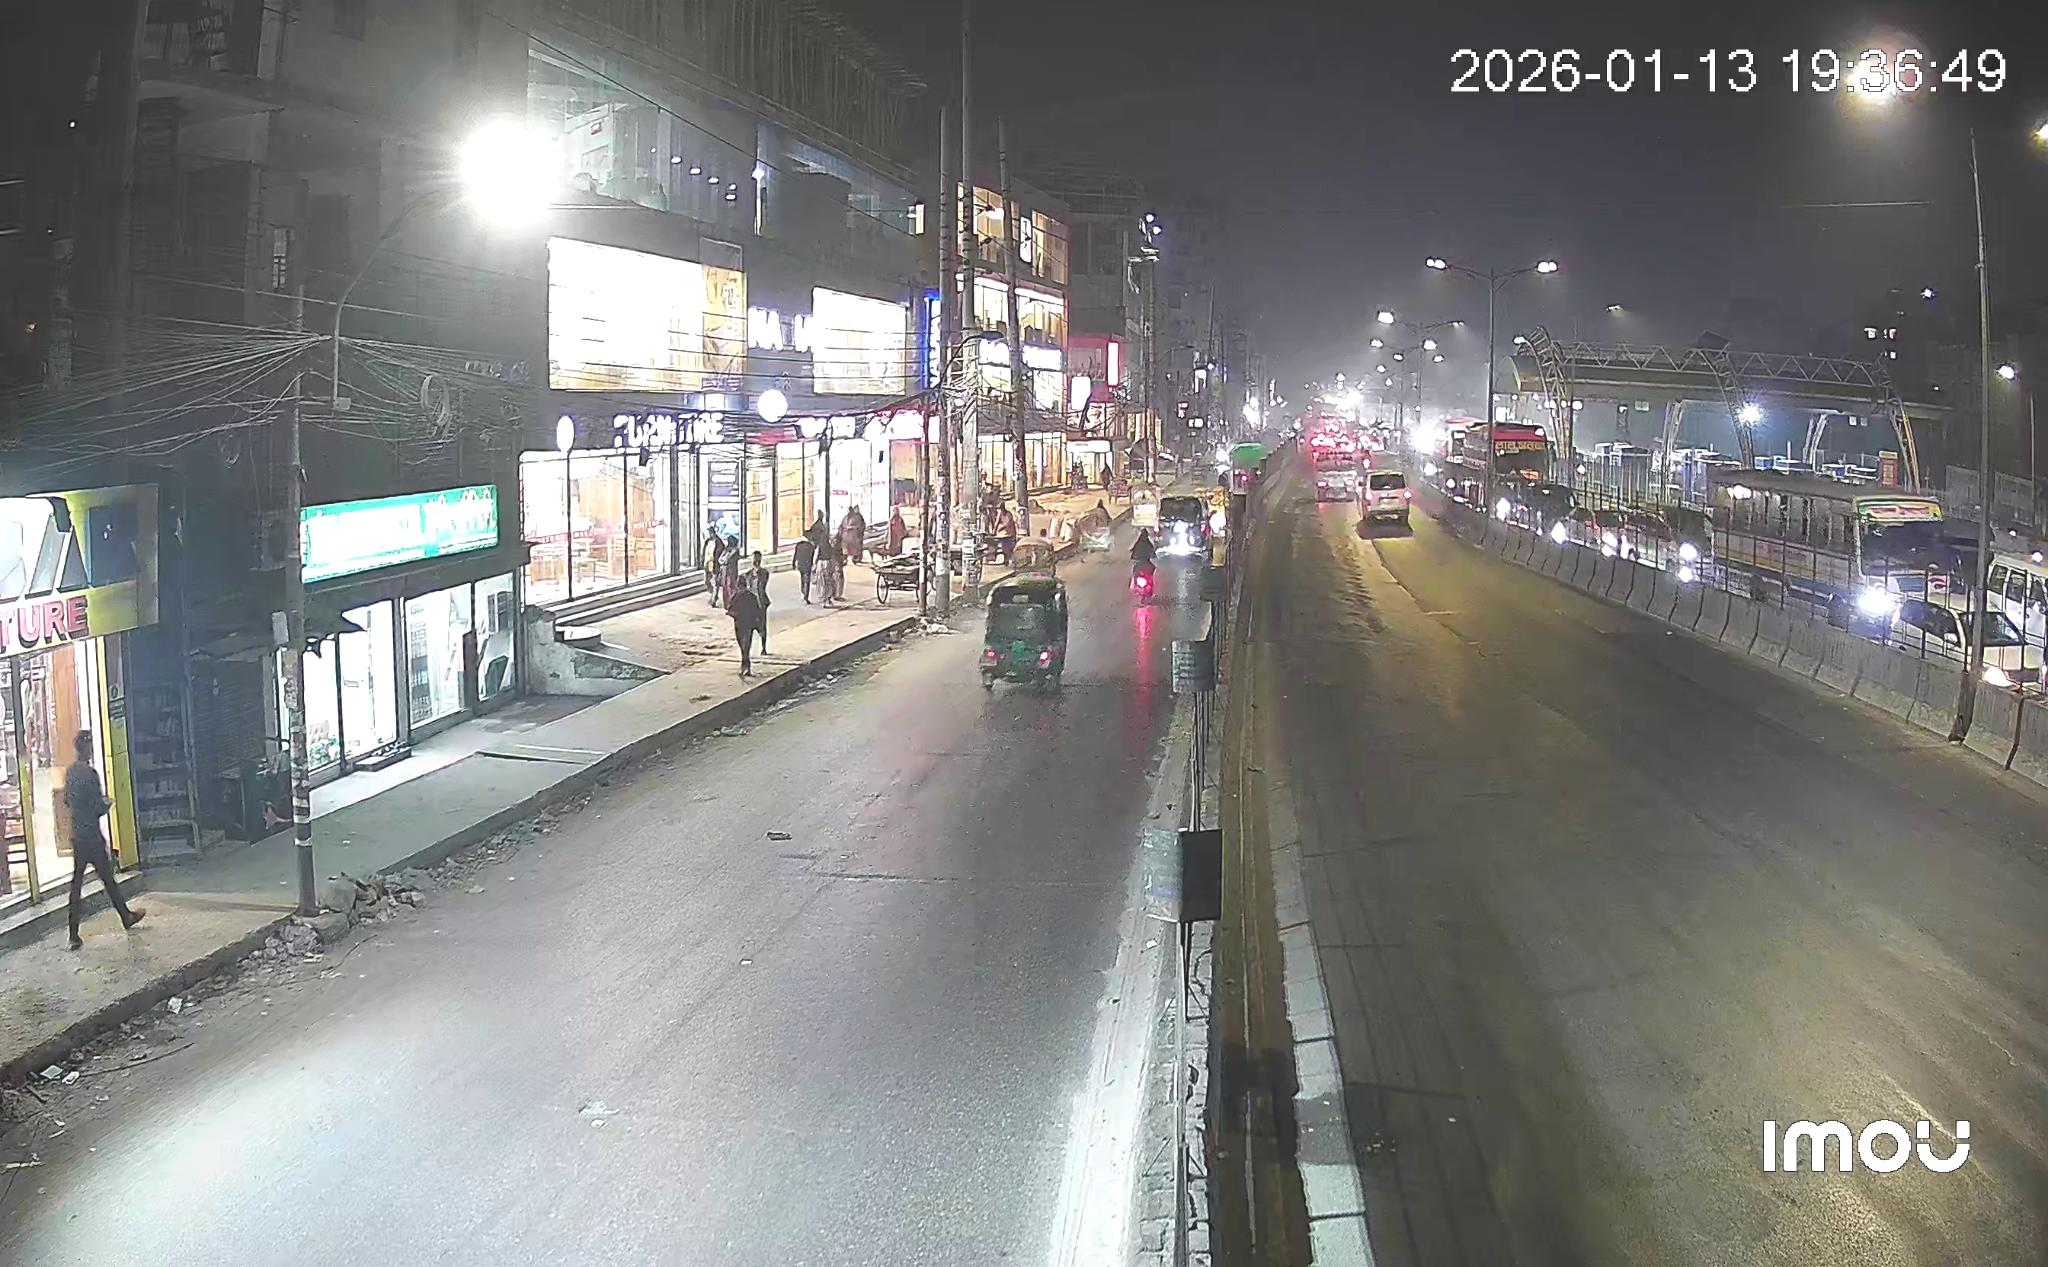CNG-Tempo: (977, 571, 1069, 691)
Microbus: (1362, 468, 1412, 528)
Motorcycle: (1131, 530, 1157, 603)
